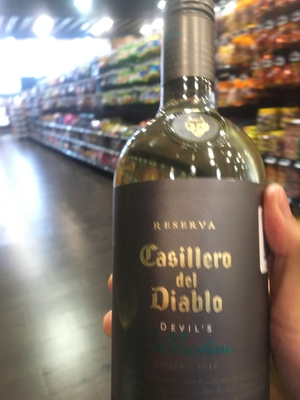casillero del diablo devils collection verde: (112, 35, 279, 400)
